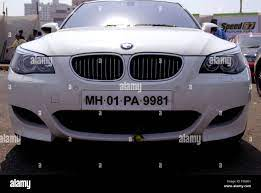number_plate: (80, 87, 176, 115)
